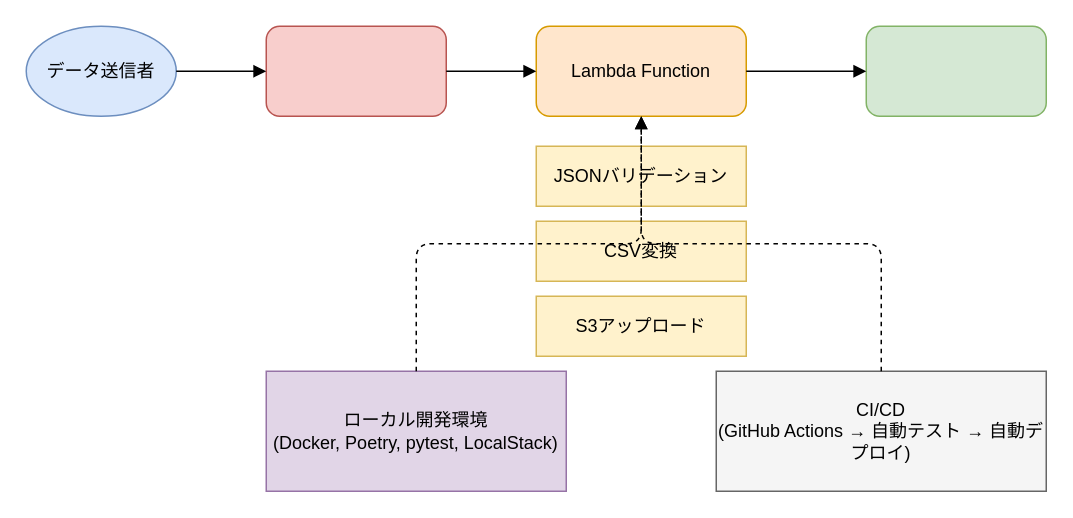
Image size: 1073x518. Some labels were removed from this diagram. Here are the shapes that lost their labels. From the top down, the centre of each, then its label:
[355,70]: SQS Queue
[955,70]: S3 Bucket
